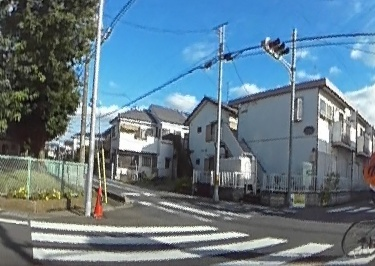person: (366, 137, 375, 249)
